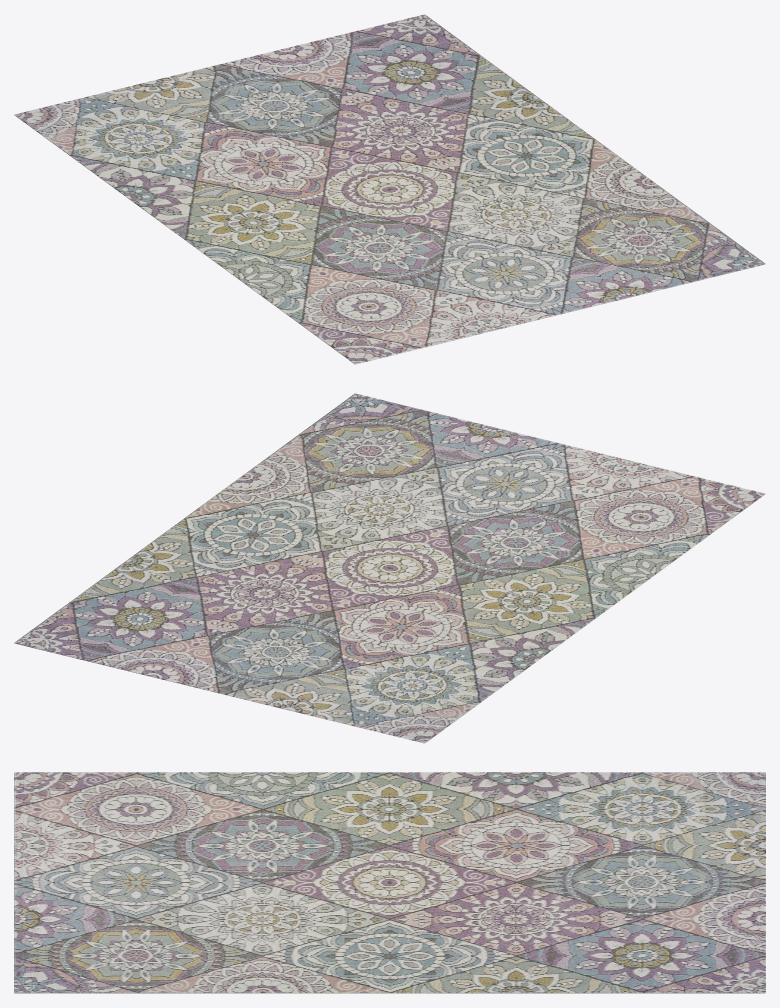
Rendered from carpet.gltf.
3 views of the same model, one above another, from view 1: azimuth 30°, elevation 25°; view 2: azimuth 150°, elevation 25°; view 3: azimuth 270°, elevation 25° (orthographic). The views are drawn at different scales.
Parts seen in each view (by area): view 1: Box005; view 2: Box005; view 3: Box005.
Part boxes in pixels (left/top/right/bottom): Box005: left=14, top=14, right=765, bottom=364; Box005: left=14, top=393, right=765, bottom=743; Box005: left=14, top=772, right=765, bottom=993.
Size of the model in its own units: 160 by 0.13 by 230.
Materials: 2 (1 with a texture image).
